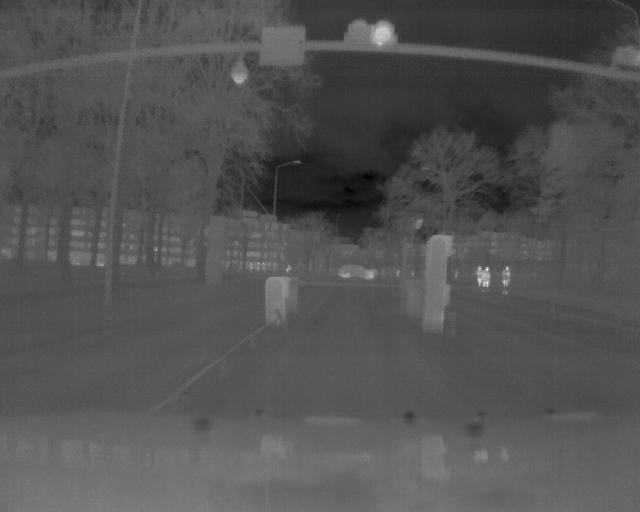car: (335, 262, 377, 281)
person: (499, 265, 512, 293), (480, 262, 490, 292)
